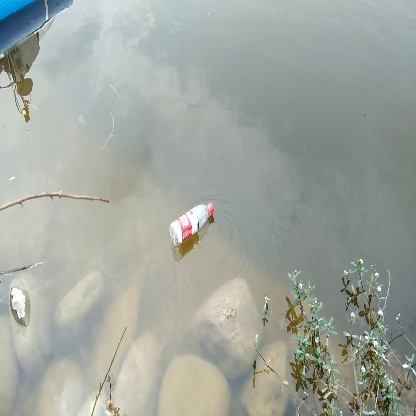bottle: (166, 199, 216, 247)
